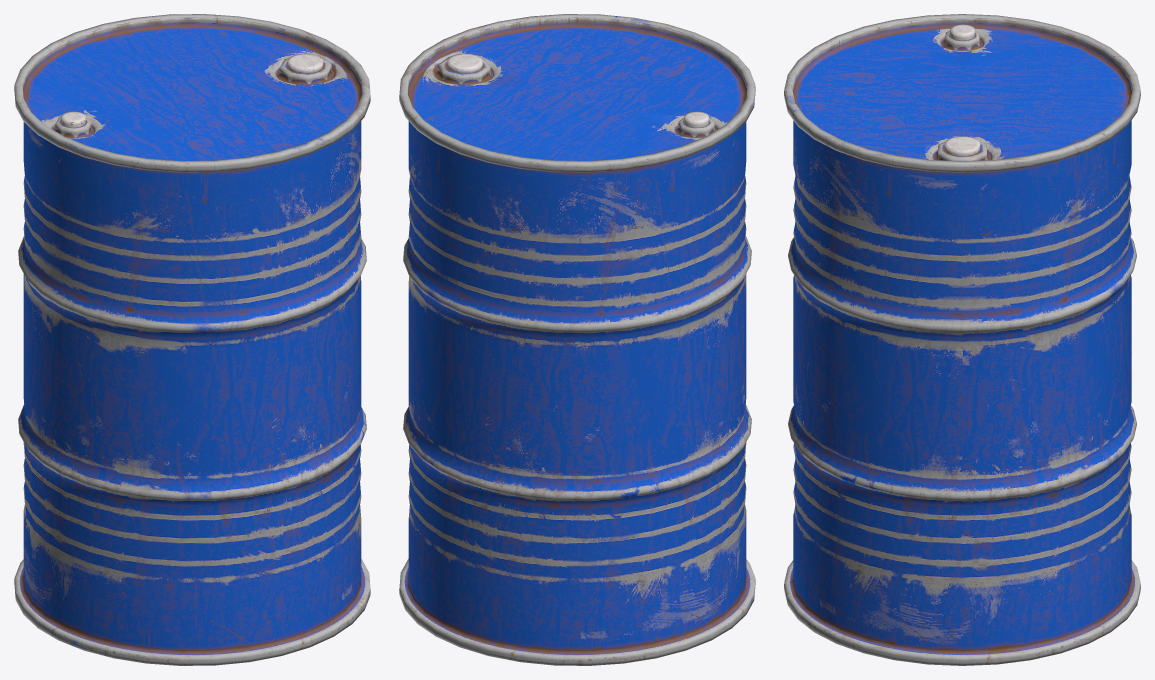
Rendered from bluebarrel.dae.
3 renders of one model, left to right at view 1: azimuth 30°, elevation 25°; view 2: azimuth 150°, elevation 25°; view 3: azimuth 270°, elevation 25°, orthographic.
Visible parts, largest first — view 1: Barrel_1; view 2: Barrel_1; view 3: Barrel_1.
Boxes of the visible parts, x1,y1,x2,y2 form: Barrel_1: (14,14,370,665); Barrel_1: (399,14,755,665); Barrel_1: (784,14,1140,665).
Size of the model in its own units: 0.661 by 0.661 by 1.03.
Materials: 1 (1 with a texture image).
